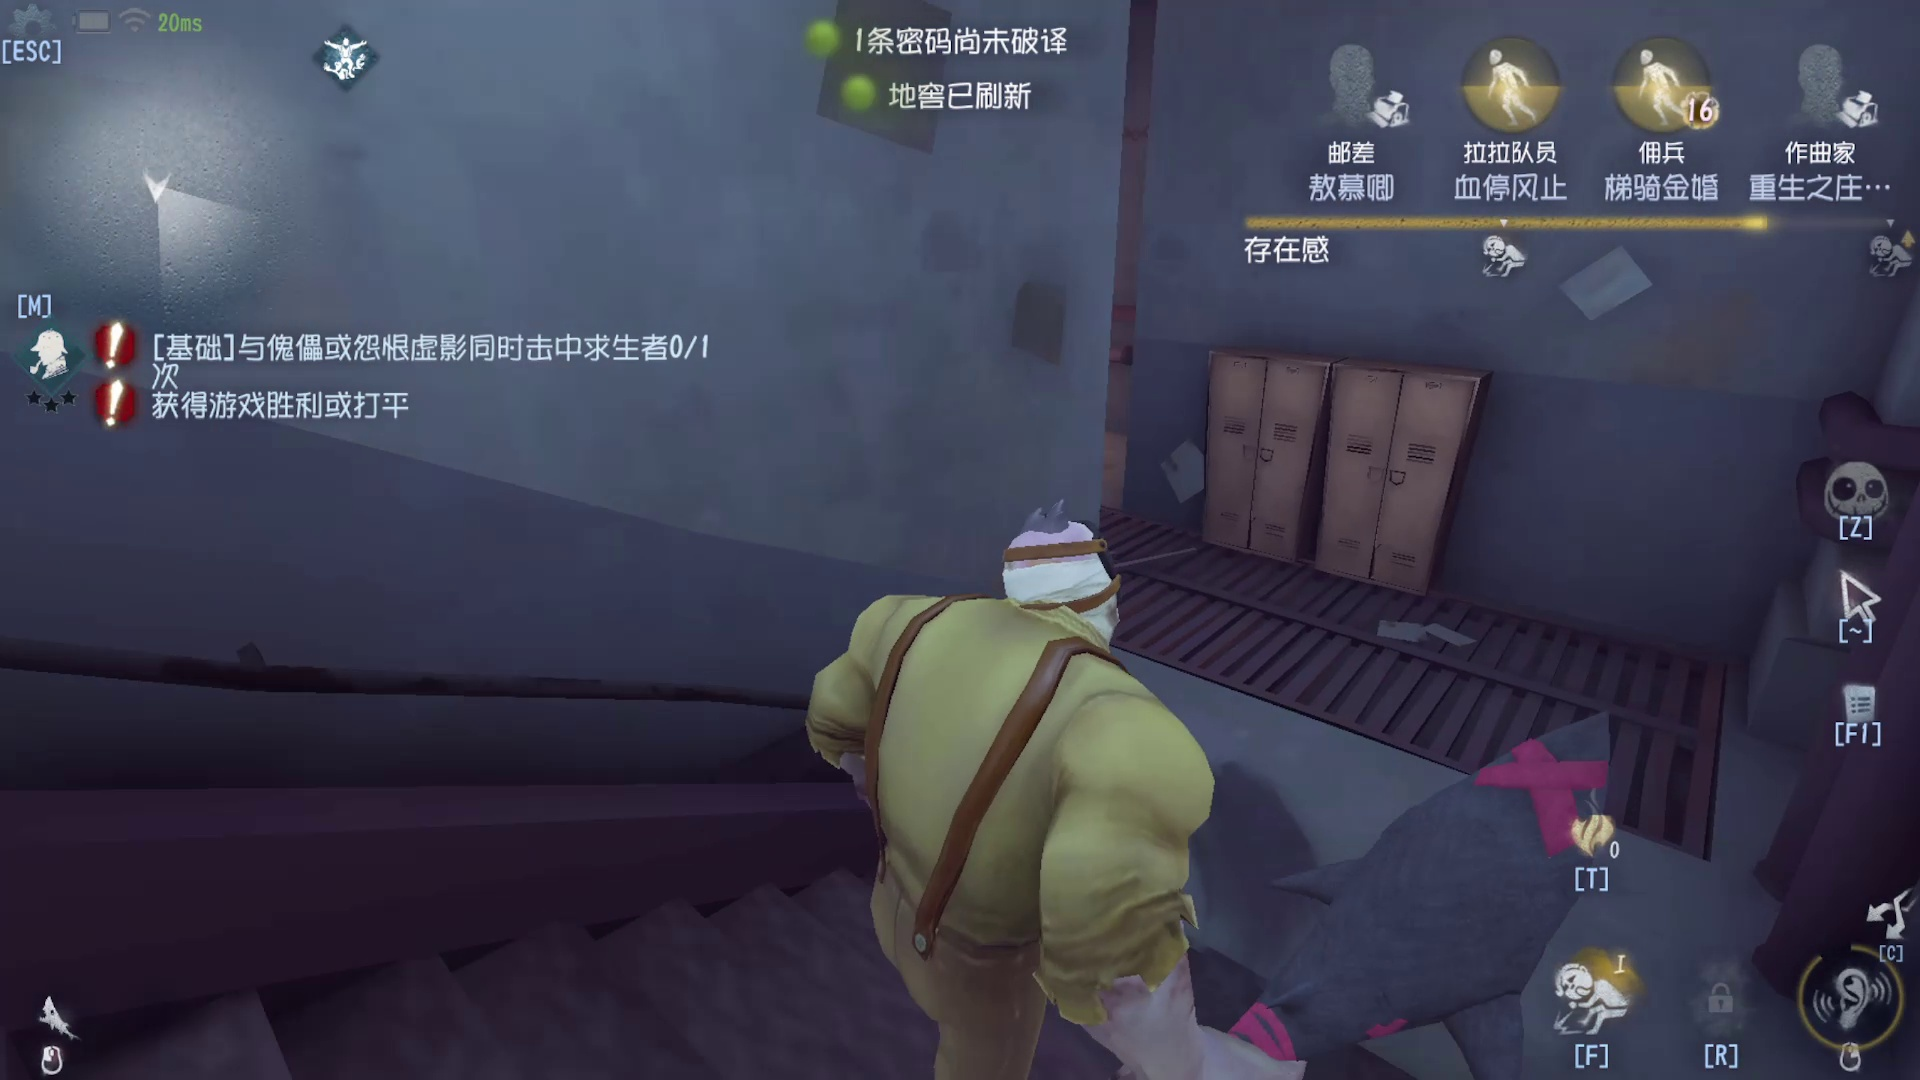设置: (1, 1, 78, 80)
